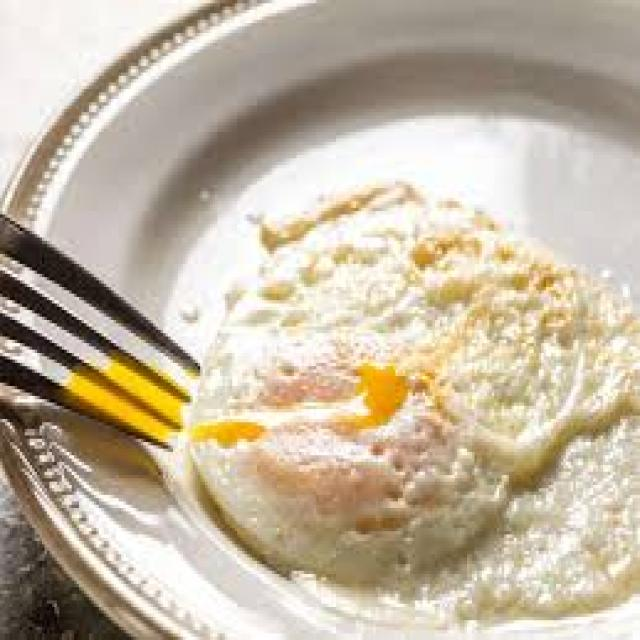Egg: (191, 182, 640, 608)
